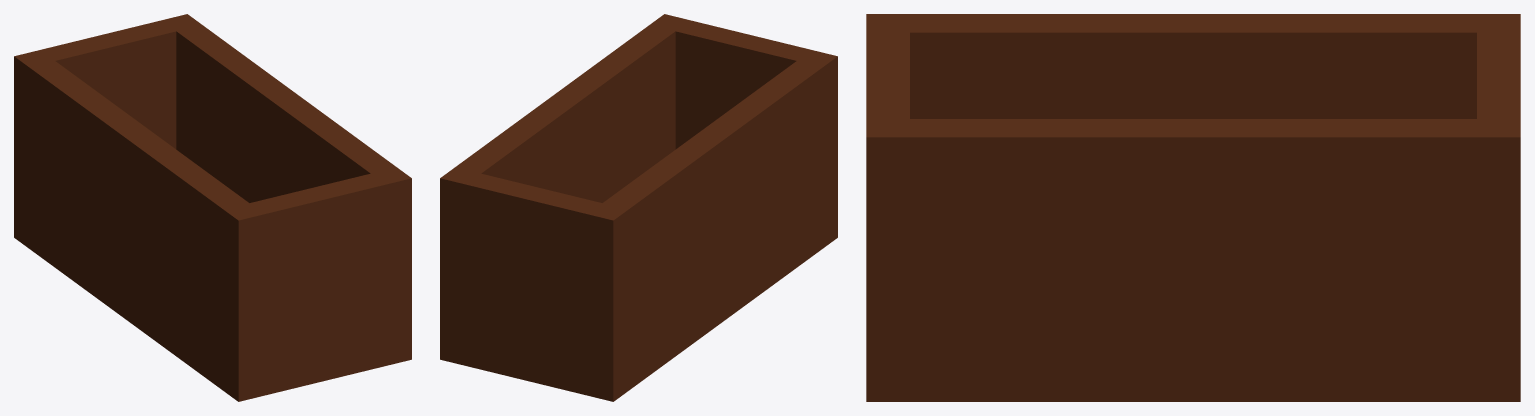
File: cart2.fbx
The picture shows the model from 3 angles, left to right: view 1: azimuth 30°, elevation 25°; view 2: azimuth 150°, elevation 25°; view 3: azimuth 270°, elevation 25°; orthographic projection. The views are drawn at different scales.
Parts seen in each view (by area): view 1: Cart; view 2: Cart; view 3: Cart.
Boxes of the visible parts, bbox=[...] form: Cart: bbox=[14, 14, 411, 401]; Cart: bbox=[440, 14, 837, 401]; Cart: bbox=[866, 14, 1520, 401].
Bounding box in the file's own units: 200 × 448 × 200.
